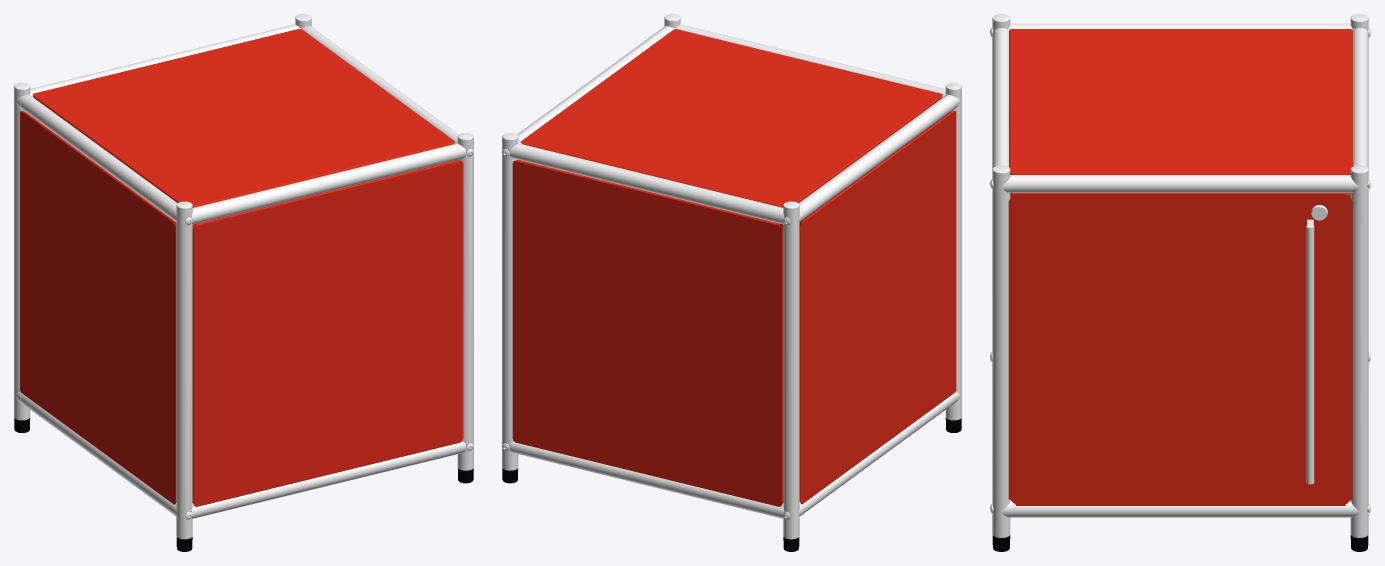
File: 40x40x40-2-6-red_optimized_optimized.glb
3 views of the same model, side by side, from view 1: azimuth 30°, elevation 25°; view 2: azimuth 150°, elevation 25°; view 3: azimuth 270°, elevation 25° (orthographic). The views are drawn at different scales.
Parts seen in each view (by area): view 1: 直角鐵板-40x40-5 - 零件, 反-鐵管-40-354..4-1 - 零件, 圓形腳+調整器-1 - 零件; view 2: 直角鐵板-40x40-5 - 零件, 反-鐵管-40-354..4-1 - 零件, 圓形腳+調整器-1 - 零件; view 3: 直角鐵板-40x40-5 - 零件, 反-鐵管-40-354..4-1 - 零件, 圓形腳+調整器-1 - 零件.
Part boxes in pixels (x1=…): 直角鐵板-40x40-5 - 零件: x1=20, y1=28, x2=463, y2=506; 反-鐵管-40-354..4-1 - 零件: x1=14, y1=14, x2=473, y2=539; 圓形腳+調整器-1 - 零件: x1=14, y1=418, x2=473, y2=551; 直角鐵板-40x40-5 - 零件: x1=512, y1=29, x2=956, y2=506; 反-鐵管-40-354..4-1 - 零件: x1=502, y1=14, x2=961, y2=539; 圓形腳+調整器-1 - 零件: x1=502, y1=418, x2=961, y2=551; 直角鐵板-40x40-5 - 零件: x1=1008, y1=29, x2=1352, y2=505; 反-鐵管-40-354..4-1 - 零件: x1=990, y1=14, x2=1370, y2=537; 圓形腳+調整器-1 - 零件: x1=992, y1=535, x2=1368, y2=551.
Bounding box in the file's own units: 0.4203 × 0.4453 × 0.4035.
